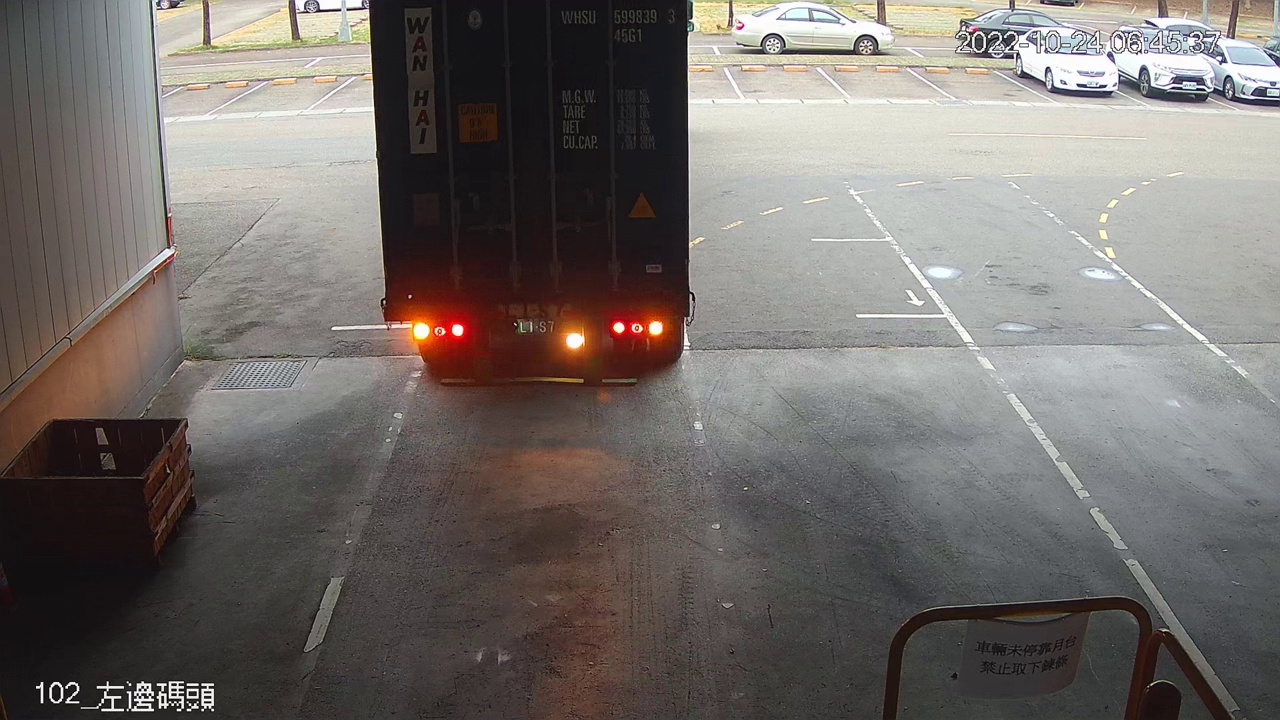container: (554, 2, 681, 47)
